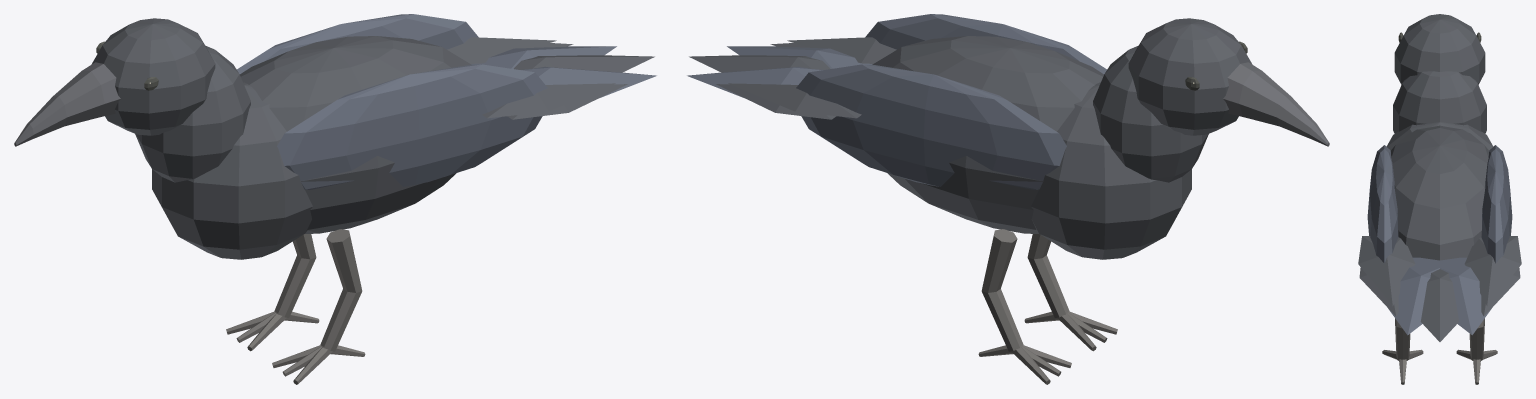
File: crow.glb
3 renders of one model, left to right at view 1: azimuth 30°, elevation 25°; view 2: azimuth 150°, elevation 25°; view 3: azimuth 270°, elevation 25°, orthographic. The views are drawn at different scales.
Parts seen in each view (by area): view 1: body_coat, Folded_Wing_L, Head, Neck, Folded_Wing_R, Beak, tail_sheen, wingL_coat, Leg_L, Tail_Feather_1, wingR_coat, Leg_R (+2 smaller); view 2: body_coat, Folded_Wing_R, Head, Neck, Folded_Wing_L, Beak, tail_sheen, wingR_coat, Leg_R, Tail_Feather_1, wingL_coat, Leg_L (+2 smaller); view 3: body_coat, Head, Neck, tail_sheen, Folded_Wing_L, Folded_Wing_R, wingL_coat, wingR_coat, Tail_Feather_1, Leg_L, Leg_R, footL_legs (+1 smaller).
Part boxes in pixels (box(x1,y1,x2,y2)): body_coat: box(152, 36, 471, 259); Folded_Wing_L: box(277, 64, 547, 189); Head: box(91, 18, 215, 135); Neck: box(135, 45, 250, 182); Folded_Wing_R: box(237, 14, 478, 73); Beak: box(14, 62, 120, 146); tail_sheen: box(471, 46, 656, 97); wingL_coat: box(482, 83, 627, 119); Leg_L: box(320, 229, 362, 351); Tail_Feather_1: box(514, 55, 654, 72); wingR_coat: box(447, 37, 573, 63); Leg_R: box(274, 234, 316, 317); body_coat: box(872, 36, 1191, 259); Folded_Wing_R: box(796, 64, 1066, 189); Head: box(1128, 18, 1252, 135); Neck: box(1093, 45, 1208, 182); Folded_Wing_L: box(865, 14, 1106, 73); Beak: box(1223, 62, 1329, 146); tail_sheen: box(687, 46, 872, 97); wingR_coat: box(716, 83, 861, 119); Leg_R: box(981, 229, 1023, 351); Tail_Feather_1: box(689, 55, 829, 72); wingL_coat: box(770, 37, 896, 63); Leg_L: box(1027, 234, 1069, 317); body_coat: box(1386, 122, 1493, 260); Head: box(1394, 14, 1485, 84); Neck: box(1393, 71, 1486, 133); tail_sheen: box(1387, 257, 1492, 335); Folded_Wing_L: box(1367, 145, 1398, 263); Folded_Wing_R: box(1481, 145, 1512, 263); wingL_coat: box(1358, 236, 1415, 316); wingR_coat: box(1464, 236, 1521, 316); Tail_Feather_1: box(1420, 269, 1459, 341); Leg_L: box(1395, 318, 1410, 360); Leg_R: box(1469, 318, 1484, 360); footL_legs: box(1382, 349, 1423, 384).
Bounding box in the file's own units: 0.354 × 0.1914 × 0.0972.
